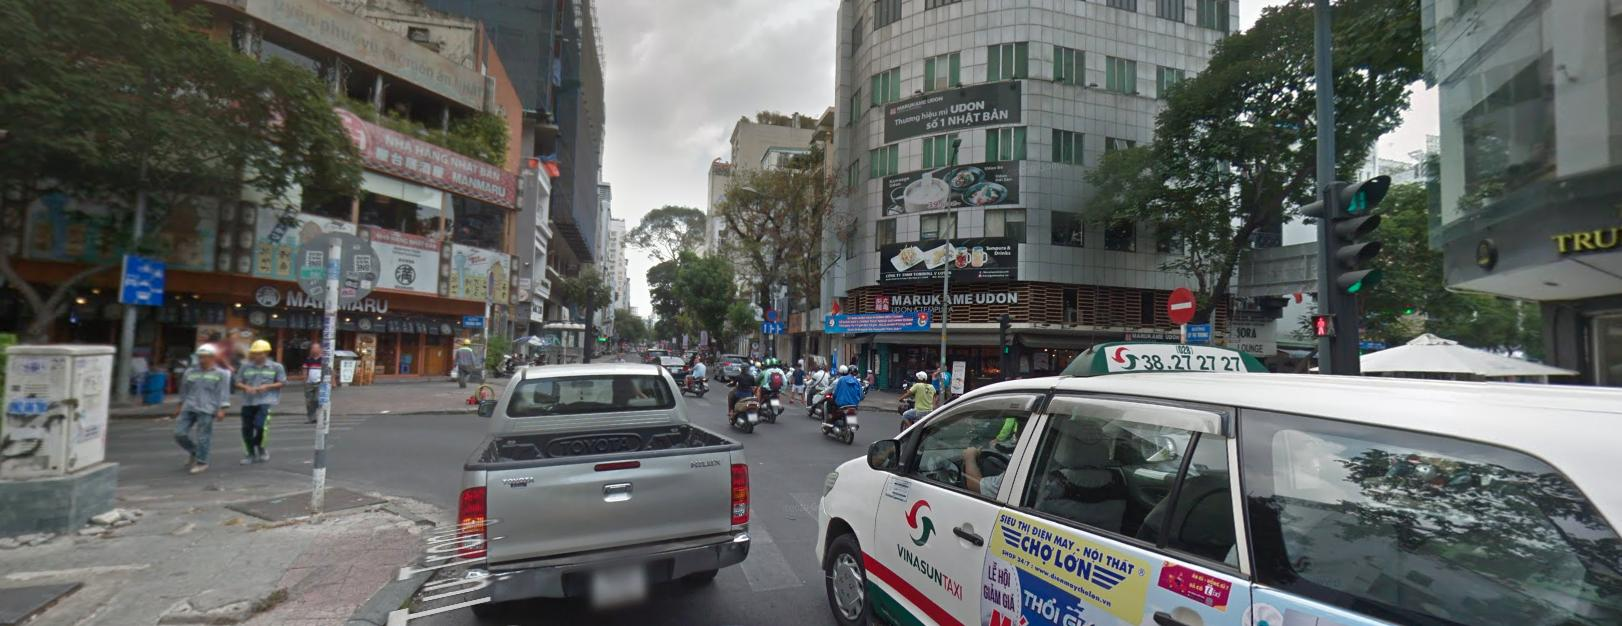Cam dung va do: (764, 307, 779, 320)
Cam nguoc chieu: (1164, 284, 1198, 324)
